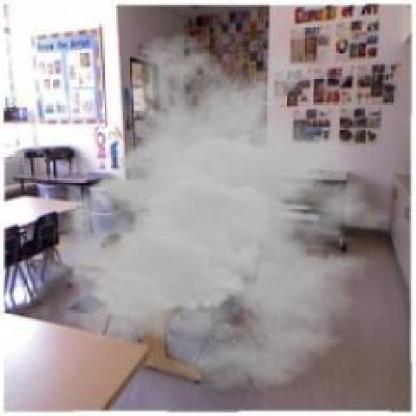Smoke: (44, 31, 408, 392)
